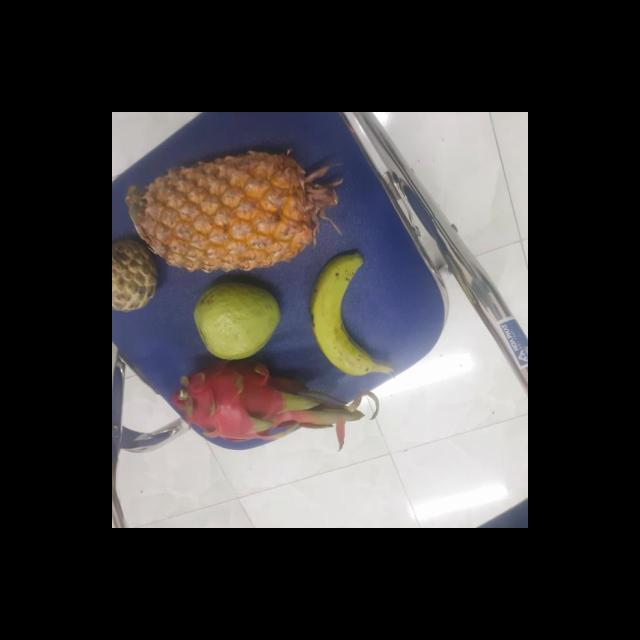Sakya fruit: (112, 239, 164, 312)
banana: (310, 258, 386, 374)
guava: (190, 282, 284, 362)
pineapple: (136, 152, 334, 271)
pitaya: (178, 359, 307, 449)
